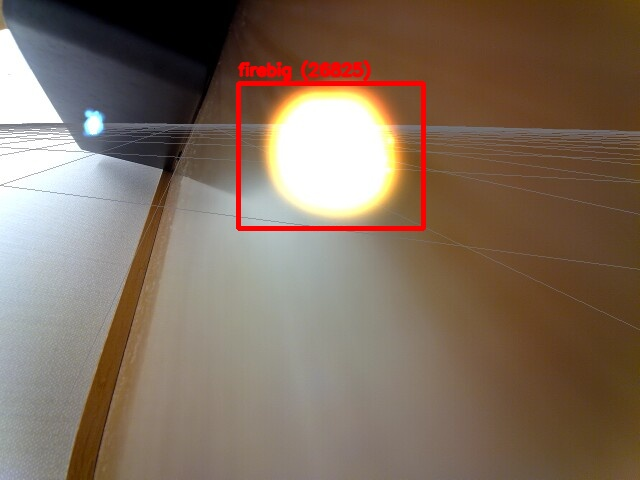firebig: (238, 83, 423, 228)
